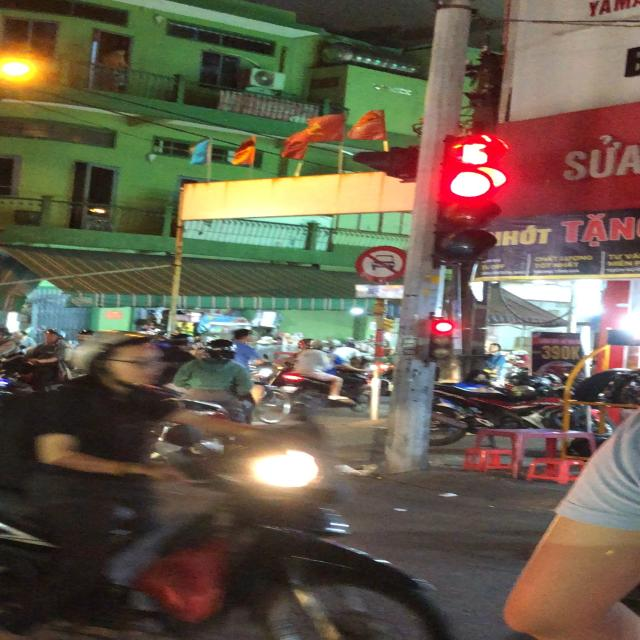Bien bao cam xe oto: (355, 244, 412, 282)
